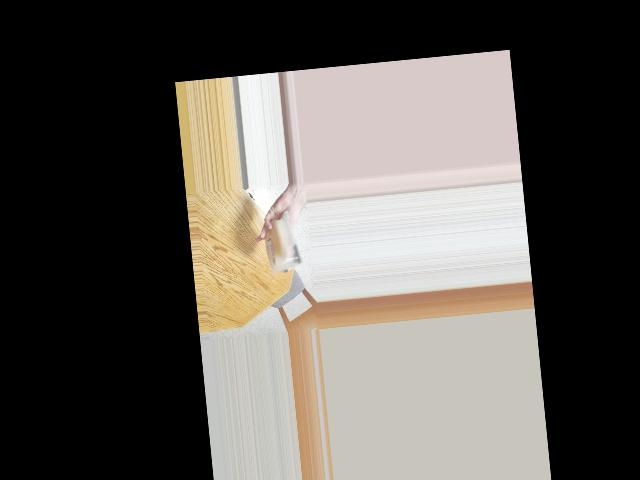cheese: (264, 220, 298, 269)
